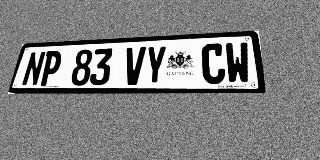3: (89, 48, 113, 85)
8: (70, 49, 94, 86)
C: (202, 43, 226, 84)
N: (21, 51, 46, 86)
P: (38, 50, 63, 86)
V: (122, 47, 146, 85)
W: (225, 42, 251, 84)
Y: (143, 46, 167, 85)
